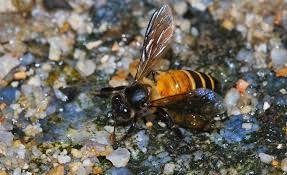Apis-mellifera-scutellata: (96, 5, 231, 147)
